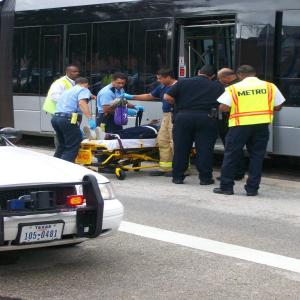Vehicle-registration-plate: (16, 223, 65, 246)
